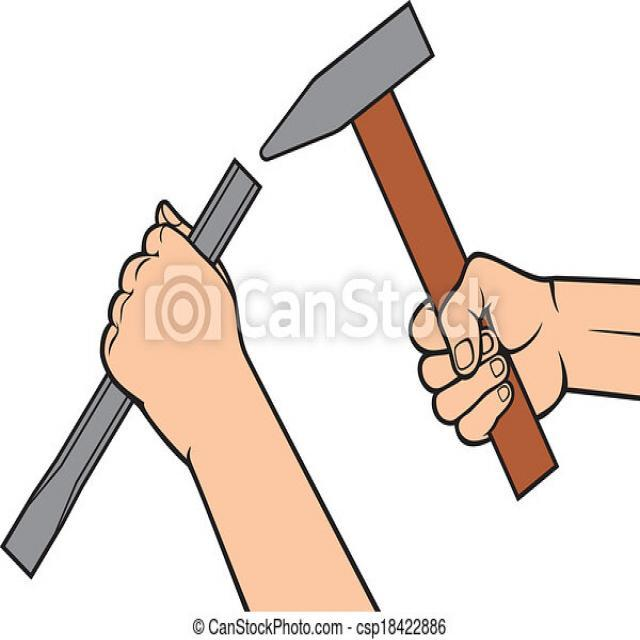hammer: (254, 1, 562, 514)
